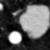node: (18, 3, 50, 39), (6, 30, 23, 45)
